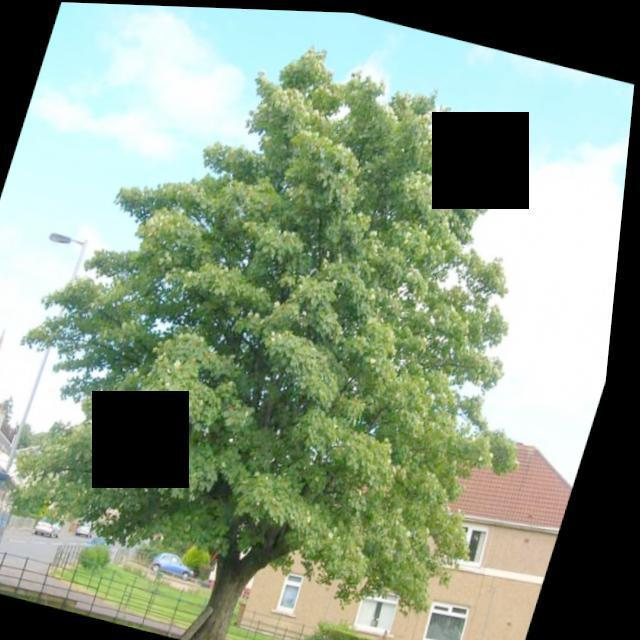tree: (0, 1, 631, 640)
